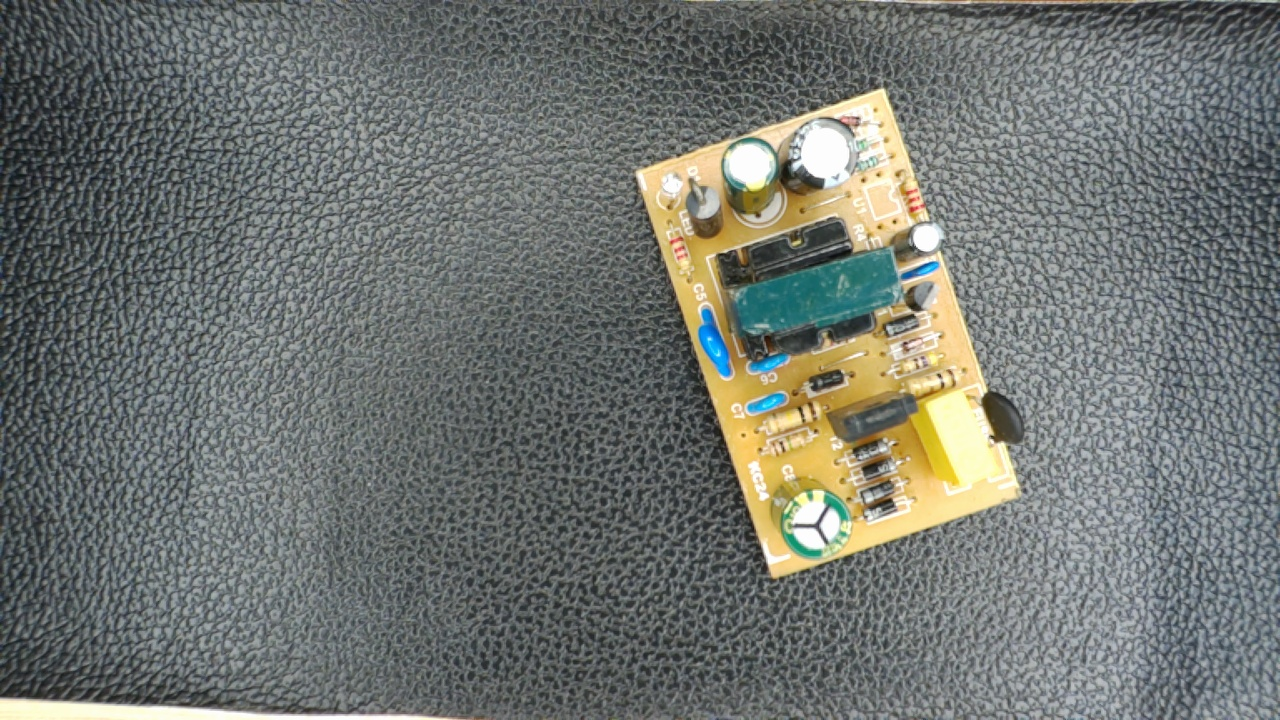fuse: (968, 384, 1028, 458)
hv_capacitor: (767, 476, 852, 561)
mov: (693, 297, 738, 383)
